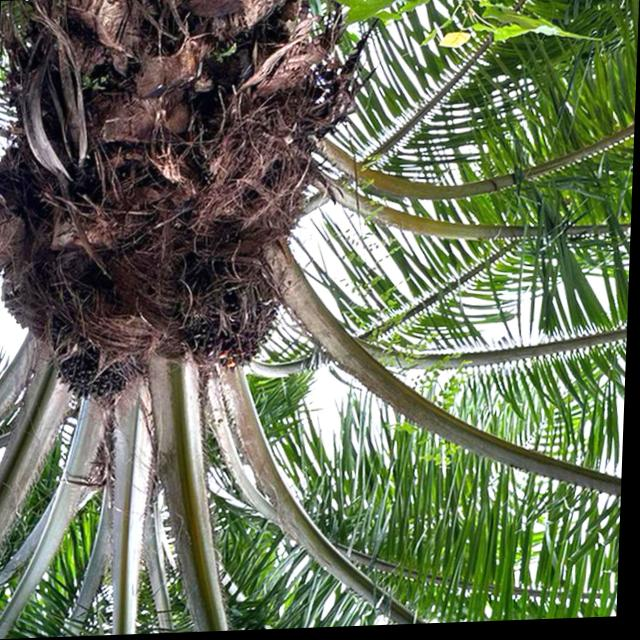almost: (180, 252, 286, 378), (50, 312, 145, 411)
